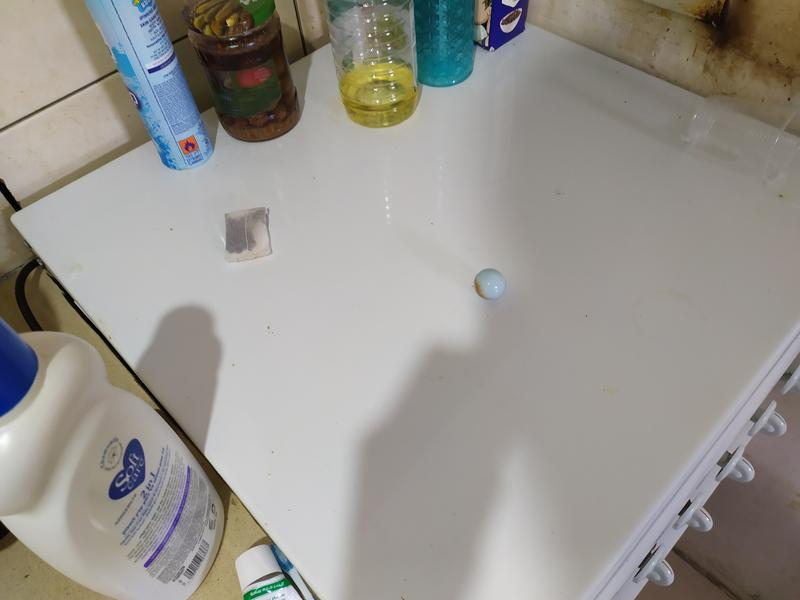Warning: (472, 266, 509, 303)
